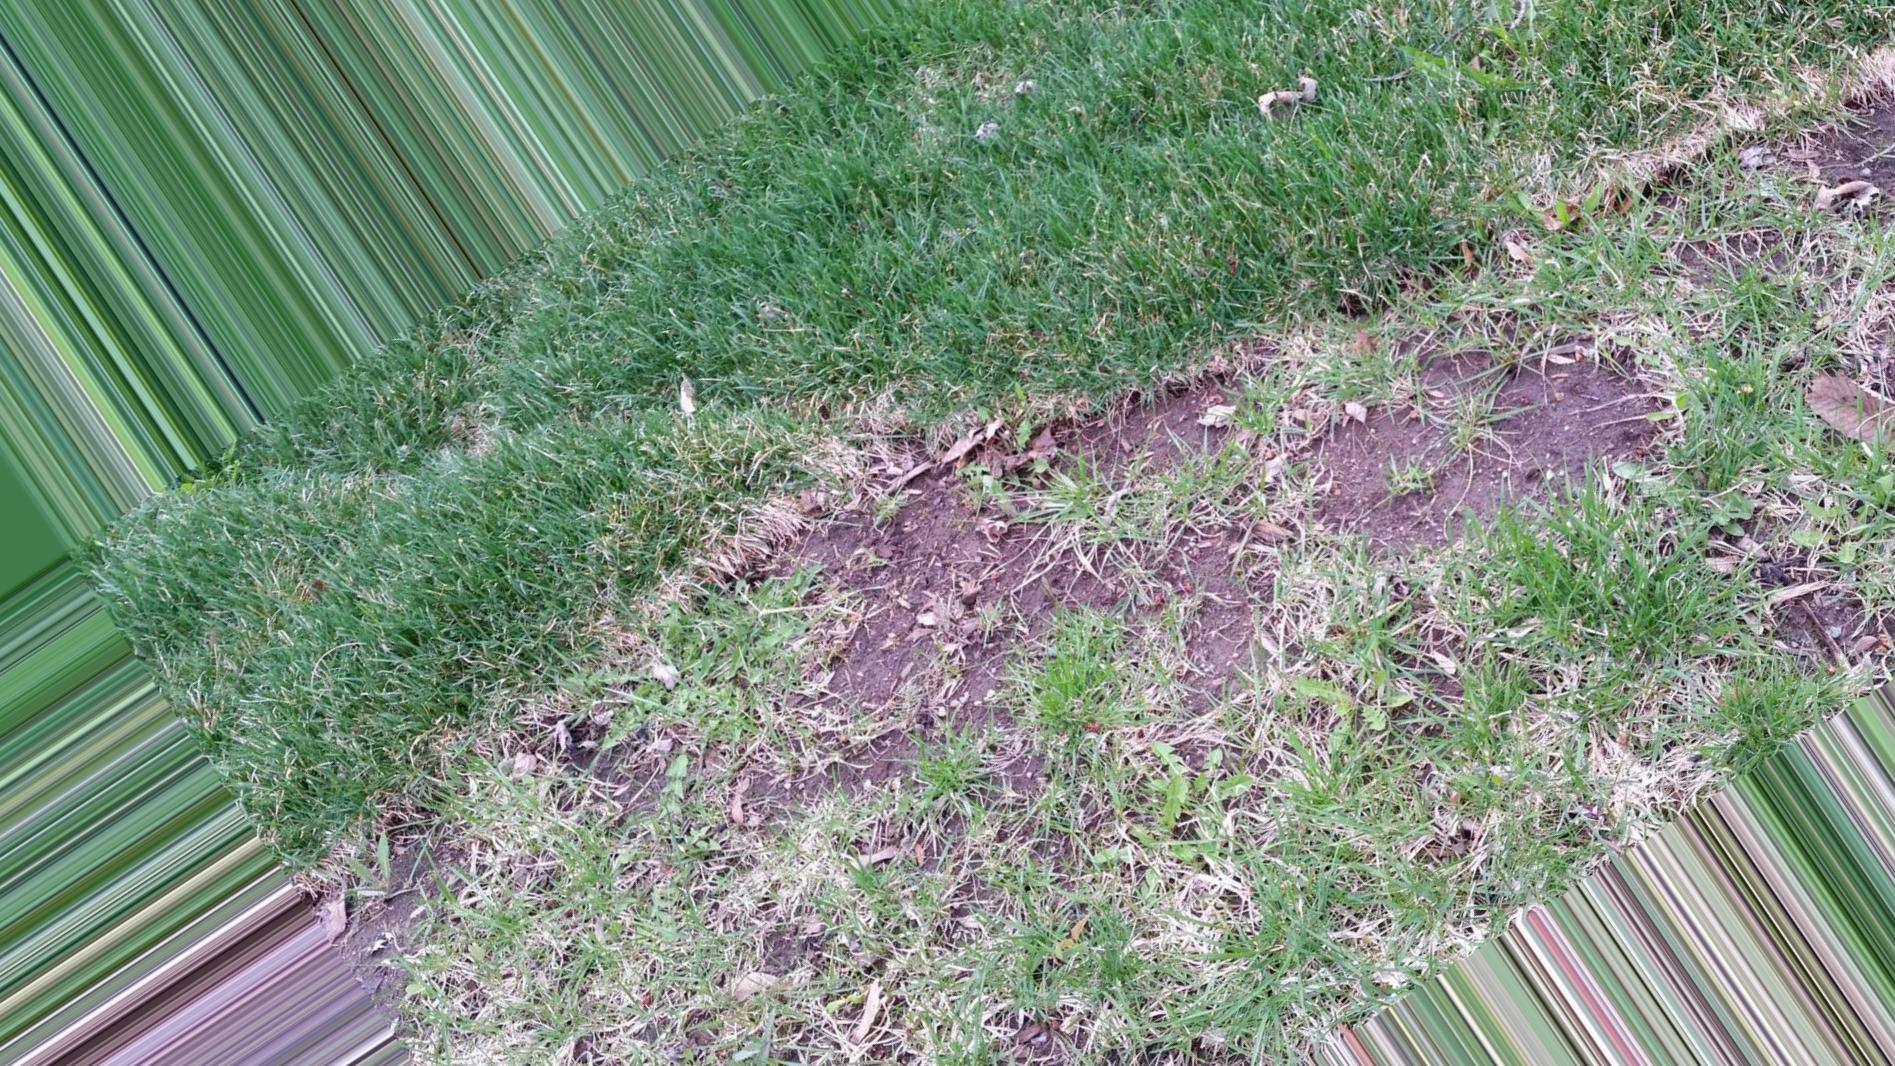patch: (1397, 418, 1564, 594), (847, 564, 989, 682), (1164, 561, 1253, 704), (950, 485, 1118, 547), (1147, 418, 1207, 528), (786, 743, 947, 772), (1843, 129, 1895, 167)
